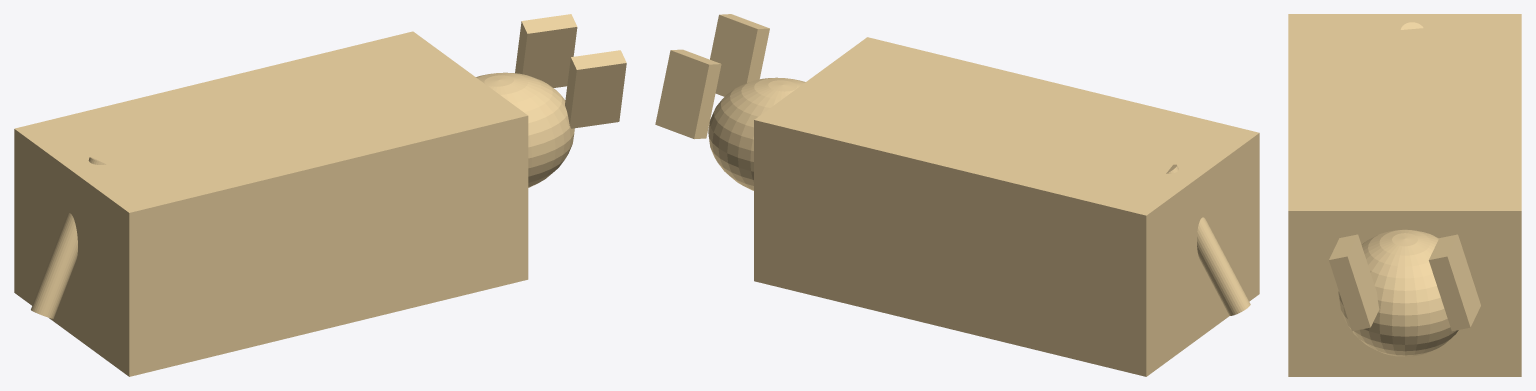
The model's file is working_method_golden_retriever.glb.
3 views of the same model, side by side, from view 1: azimuth 30°, elevation 25°; view 2: azimuth 150°, elevation 25°; view 3: azimuth 270°, elevation 25° (orthographic). The views are drawn at different scales.
Parts seen in each view (by area): view 1: Golden Retriever_Body, Golden Retriever_Head, Golden Retriever_Ear_2, Golden Retriever_Ear_1, Golden Retriever_Tail; view 2: Golden Retriever_Body, Golden Retriever_Head, Golden Retriever_Ear_1, Golden Retriever_Ear_2, Golden Retriever_Tail; view 3: Golden Retriever_Body, Golden Retriever_Head, Golden Retriever_Ear_1, Golden Retriever_Ear_2.
Boxes of the visible parts, x1,y1,x2,y2 form: Golden Retriever_Body: (14, 31, 528, 376); Golden Retriever_Head: (476, 72, 574, 187); Golden Retriever_Ear_2: (565, 50, 626, 128); Golden Retriever_Ear_1: (515, 14, 577, 87); Golden Retriever_Tail: (31, 157, 105, 318); Golden Retriever_Body: (754, 37, 1259, 376); Golden Retriever_Head: (708, 77, 805, 190); Golden Retriever_Ear_1: (655, 49, 721, 139); Golden Retriever_Ear_2: (710, 14, 769, 96); Golden Retriever_Tail: (1166, 164, 1250, 315); Golden Retriever_Body: (1288, 14, 1521, 376); Golden Retriever_Head: (1338, 229, 1458, 356); Golden Retriever_Ear_1: (1428, 234, 1480, 331); Golden Retriever_Ear_2: (1329, 234, 1379, 331).
Bounding box in the file's own units: 7.97 × 2.49 × 2.8.
